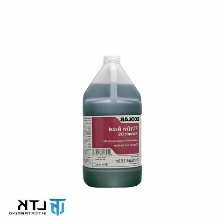cleaning_solution: (81, 53, 144, 189)
